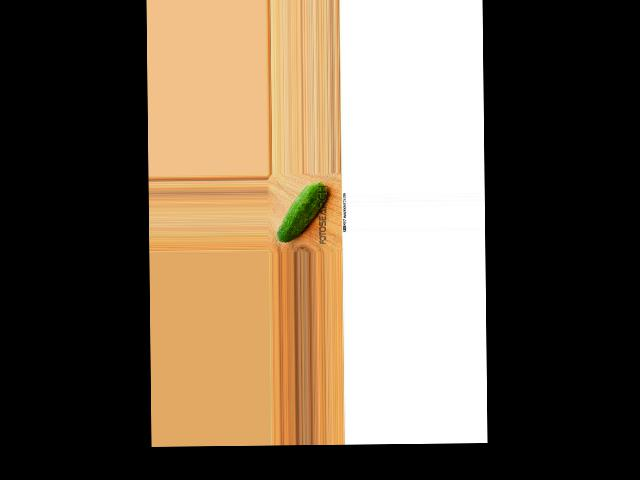cucumber: (276, 181, 328, 242)
